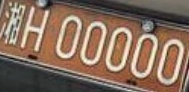H: (21, 6, 49, 51)
